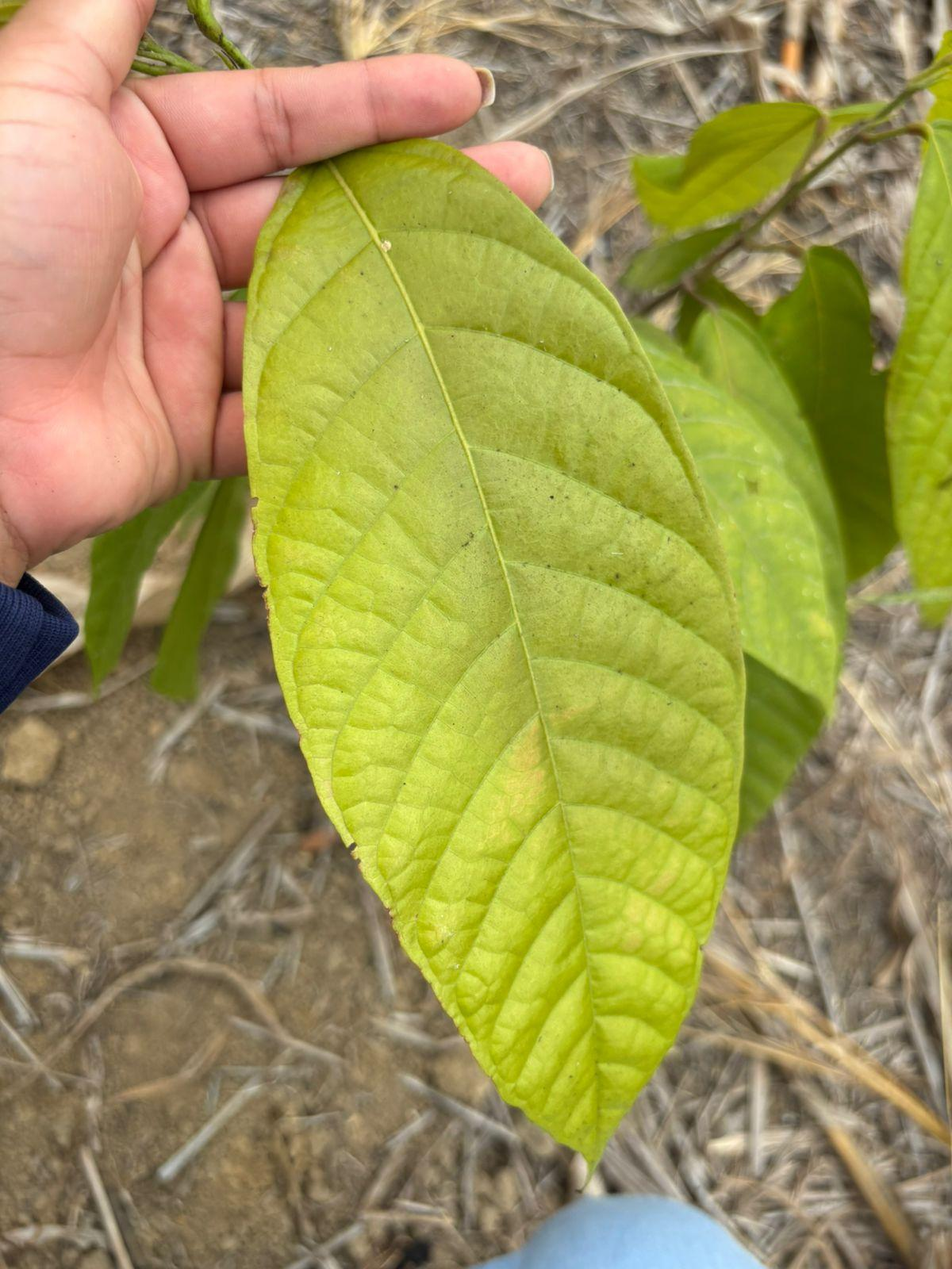deficiencia_nitrogeno: (244, 140, 743, 1165)
